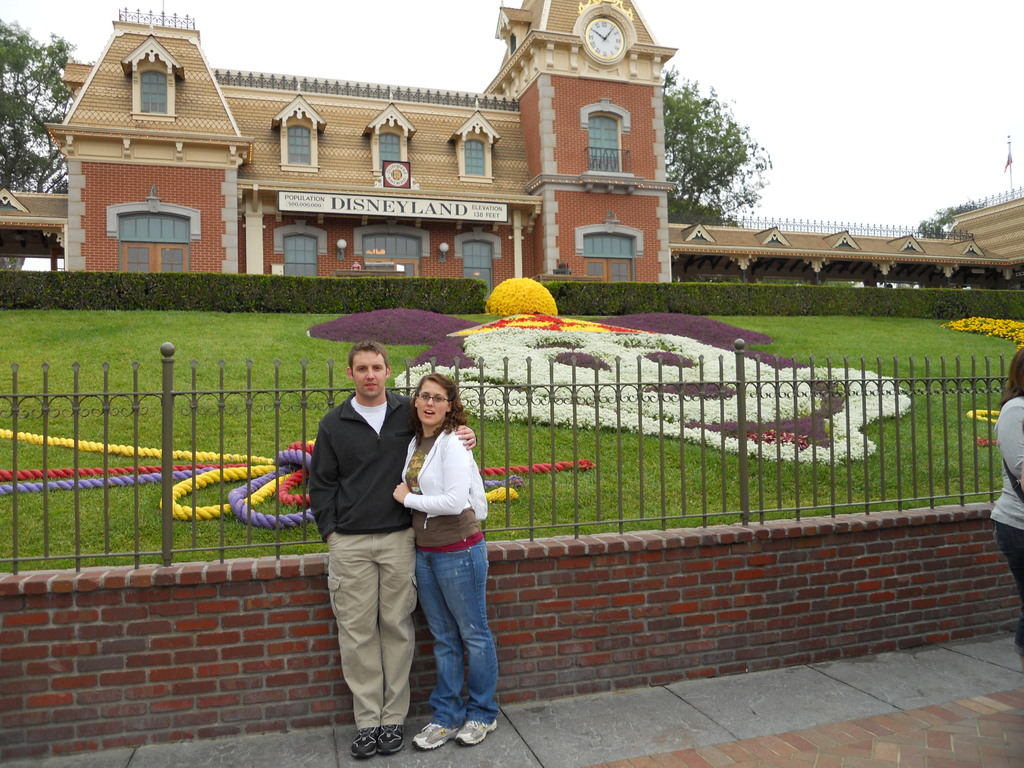Footwear: (410, 717, 457, 750), (452, 720, 500, 746), (349, 726, 382, 760), (374, 723, 404, 757)
